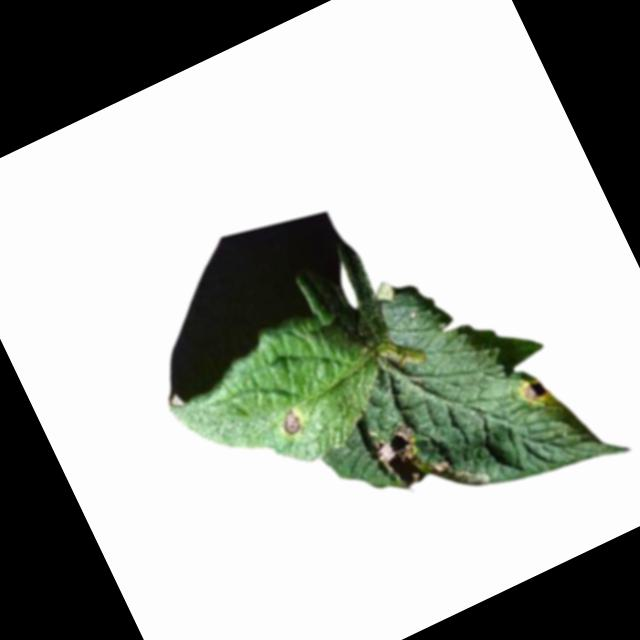Early_blight: (368, 413, 453, 499), (517, 373, 554, 410), (278, 407, 305, 438)
